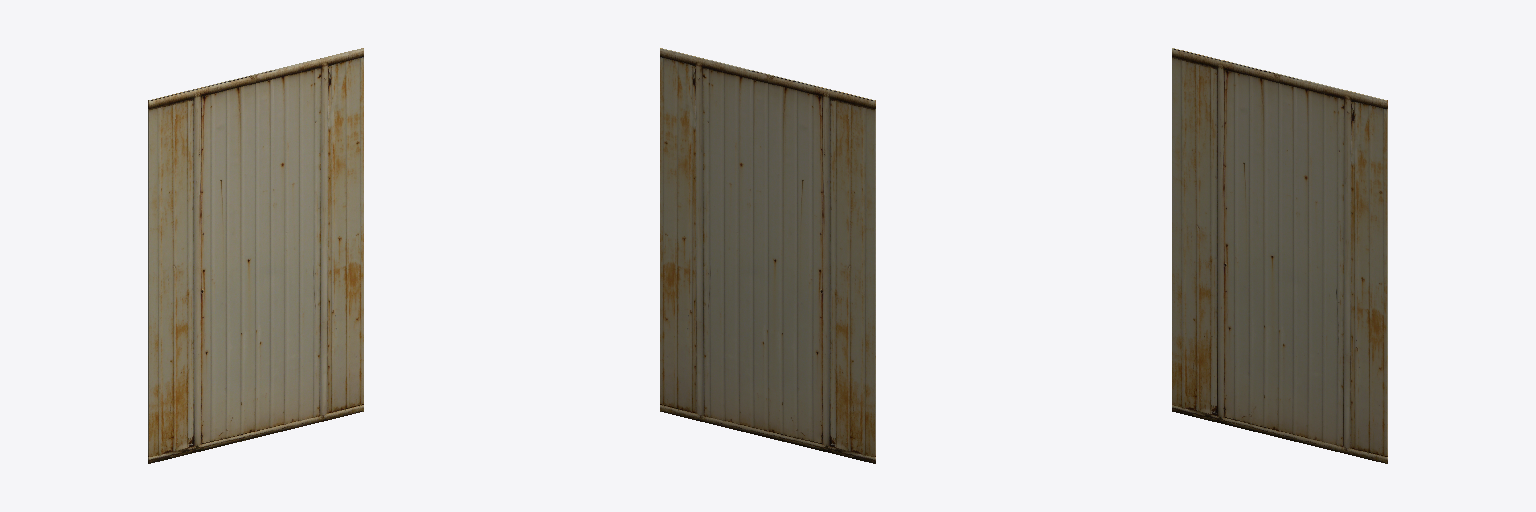
3 renders of one model, left to right at view 1: azimuth 30°, elevation 25°; view 2: azimuth 150°, elevation 25°; view 3: azimuth 330°, elevation 25°, orthographic.
Visible parts, largest first — view 1: Cube_Cube.001; view 2: Cube_Cube.001; view 3: Cube_Cube.001.
Part boxes in pixels (bbox=[...]): Cube_Cube.001: bbox=[148, 48, 363, 463]; Cube_Cube.001: bbox=[660, 48, 875, 463]; Cube_Cube.001: bbox=[1172, 48, 1387, 463].
Bounding box in the file's own units: 8 × 12.95 × 0.05.
1 materials, 1 textured.